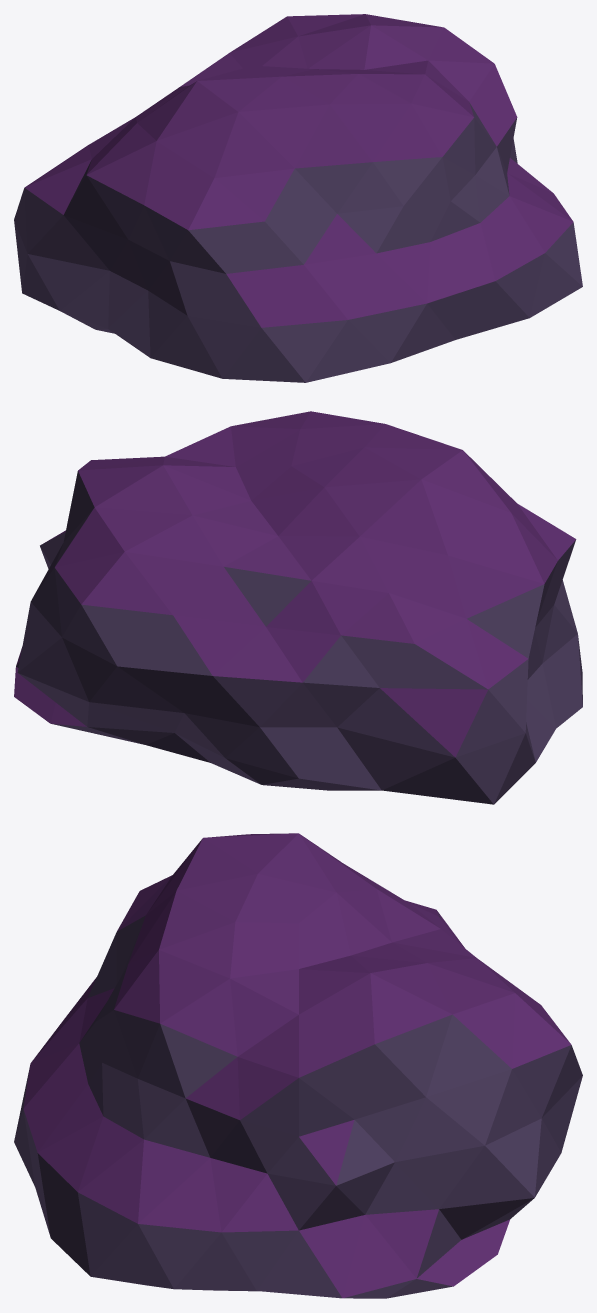
Rendered from W4_CaveRock_A.fbx.
The picture shows the model from 3 angles, top to bottom: view 1: azimuth 30°, elevation 25°; view 2: azimuth 150°, elevation 25°; view 3: azimuth 270°, elevation 25°; orthographic projection. The views are drawn at different scales.
Parts seen in each view (by area): view 1: W4_CaveRock_A; view 2: W4_CaveRock_A; view 3: W4_CaveRock_A.
Part boxes in pixels (box(x1,y1,x2,y2)): W4_CaveRock_A: box(14, 14, 582, 382); W4_CaveRock_A: box(14, 411, 582, 804); W4_CaveRock_A: box(14, 833, 582, 1298).
Bounding box in the file's own units: 4.88 × 2.23 × 4.18.
